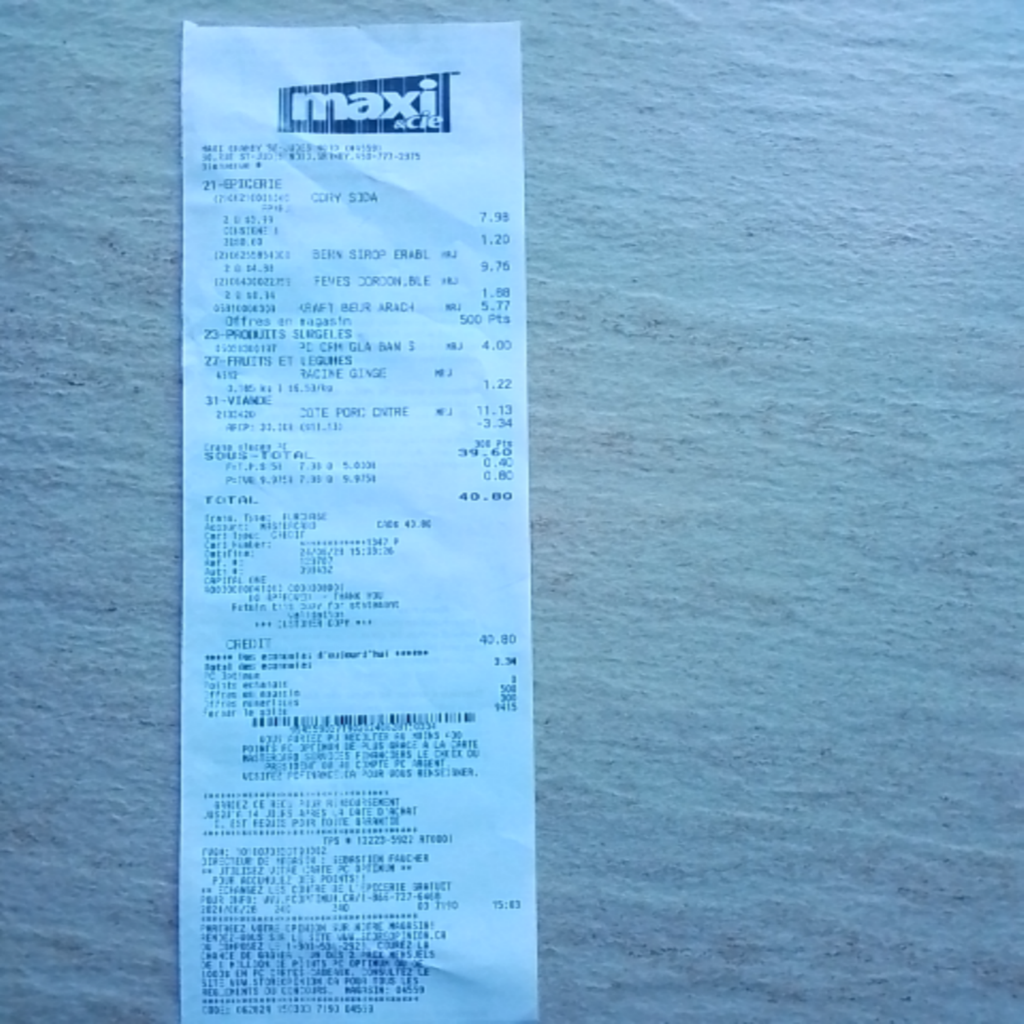recipt: (176, 23, 533, 1018)
